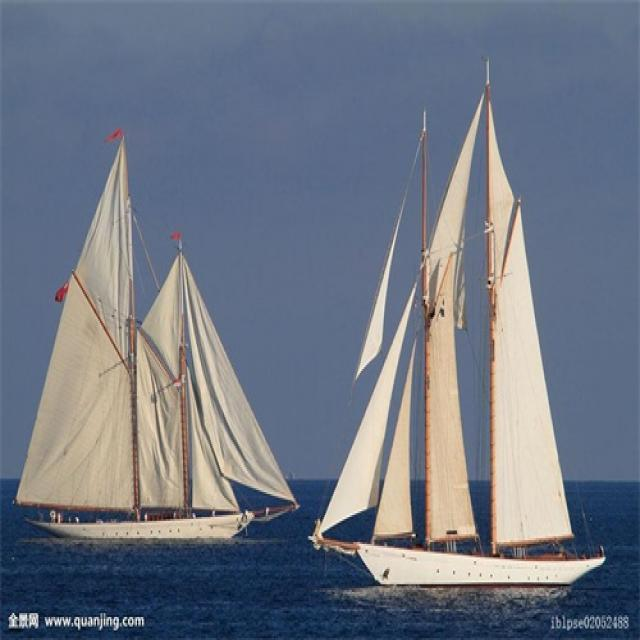Ship: (322, 95, 615, 591), (22, 148, 298, 547)
